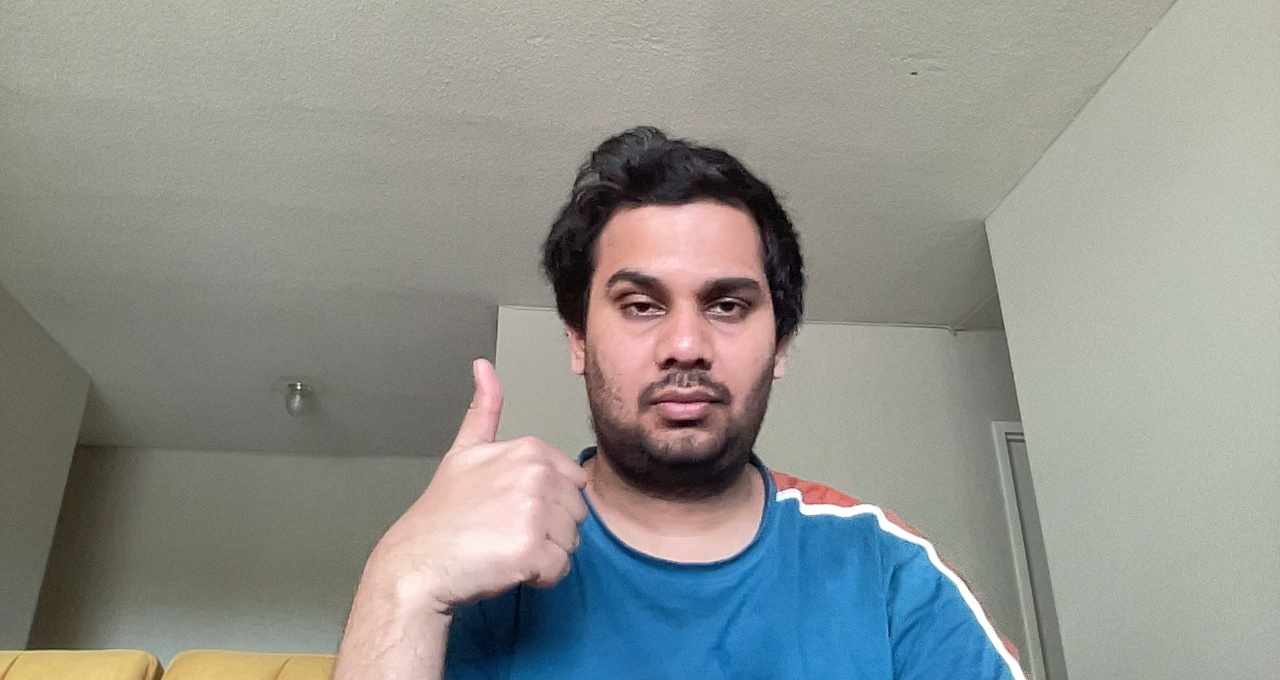thumbsup: (390, 353, 595, 598)
